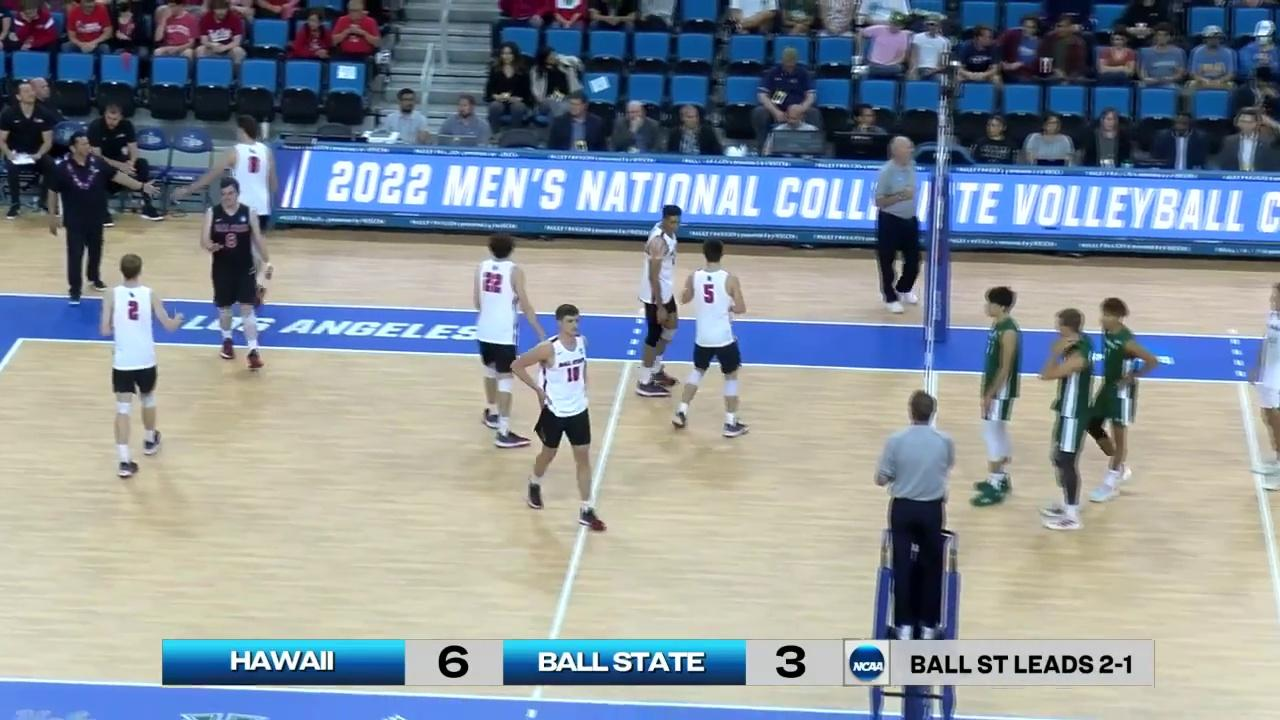player: (512, 300, 602, 528), (663, 237, 751, 442), (96, 251, 175, 473), (461, 232, 540, 445), (1086, 296, 1156, 505), (971, 285, 1026, 512), (204, 182, 268, 371), (1044, 306, 1095, 537), (634, 200, 691, 394), (1237, 281, 1280, 488)
refree: (873, 392, 957, 633), (872, 135, 930, 311)
